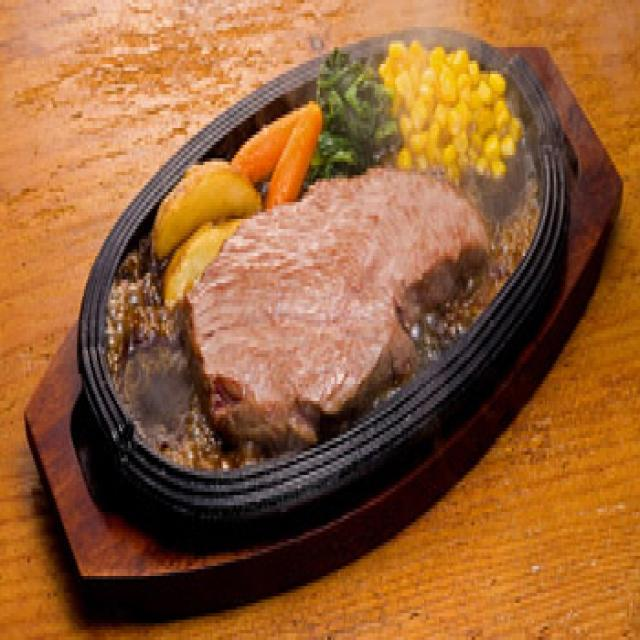牛肉菜式: (179, 151, 488, 465)
